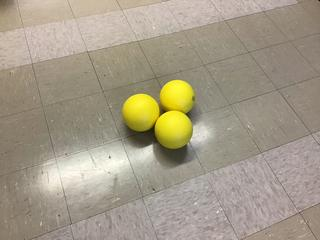power_cell: (119, 92, 161, 132), (154, 109, 193, 152), (159, 78, 198, 113)
